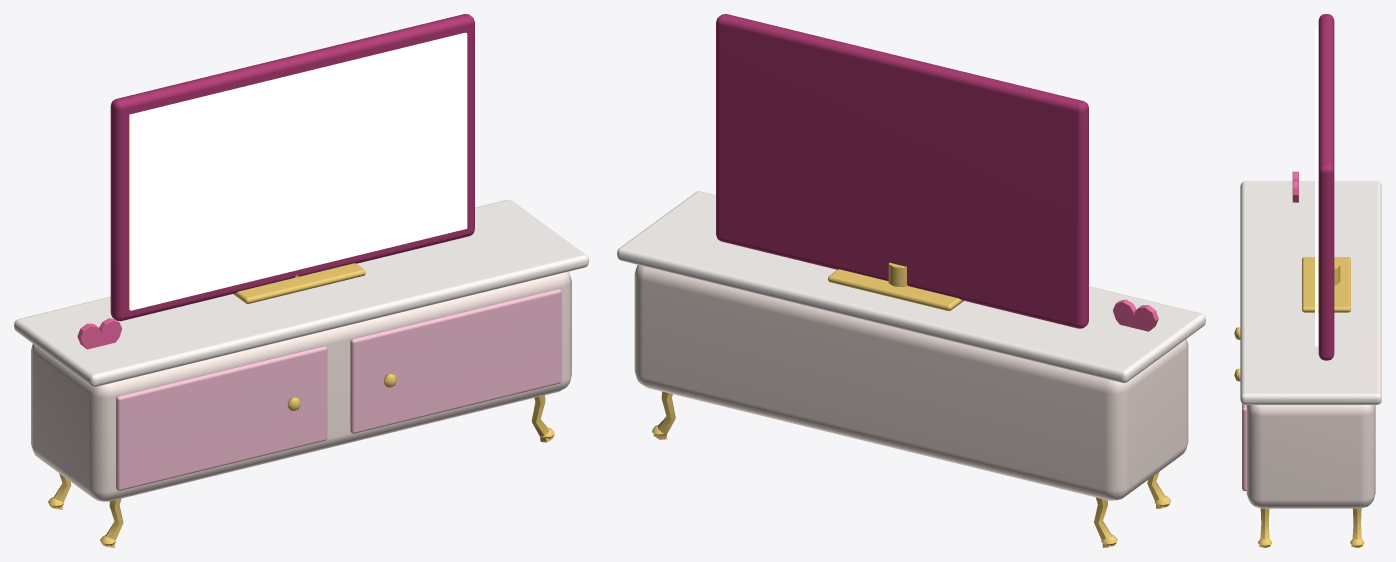
Rendered from tv_console.glb.
The picture shows the model from 3 angles, left to right: view 1: azimuth 30°, elevation 25°; view 2: azimuth 150°, elevation 25°; view 3: azimuth 270°, elevation 25°; orthographic projection. The views are drawn at different scales.
Parts seen in each view (by area): view 1: tv_console; view 2: tv_console; view 3: tv_console.
Part boxes in pixels (x1,y1,x2,y2): tv_console: (14,14,588,547); tv_console: (617,14,1205,547); tv_console: (1234,14,1381,547).
Size of the model in its own units: 1.66 by 1.31 by 0.4804.
